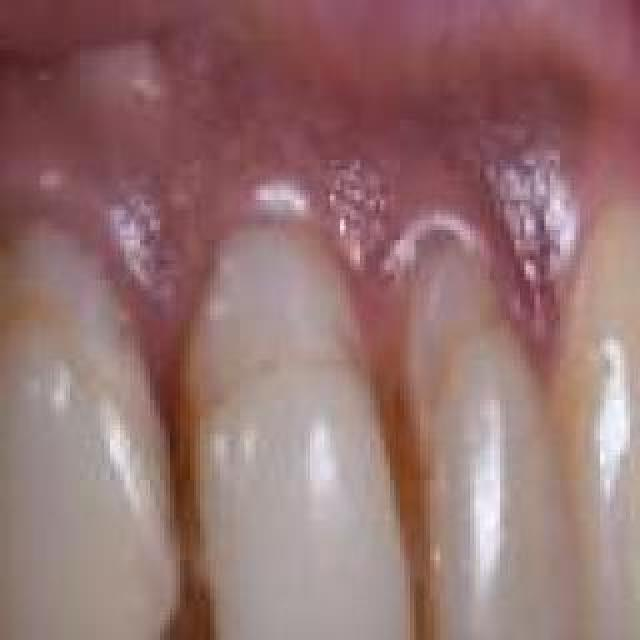stains: (126, 308, 242, 640), (340, 328, 460, 640)
